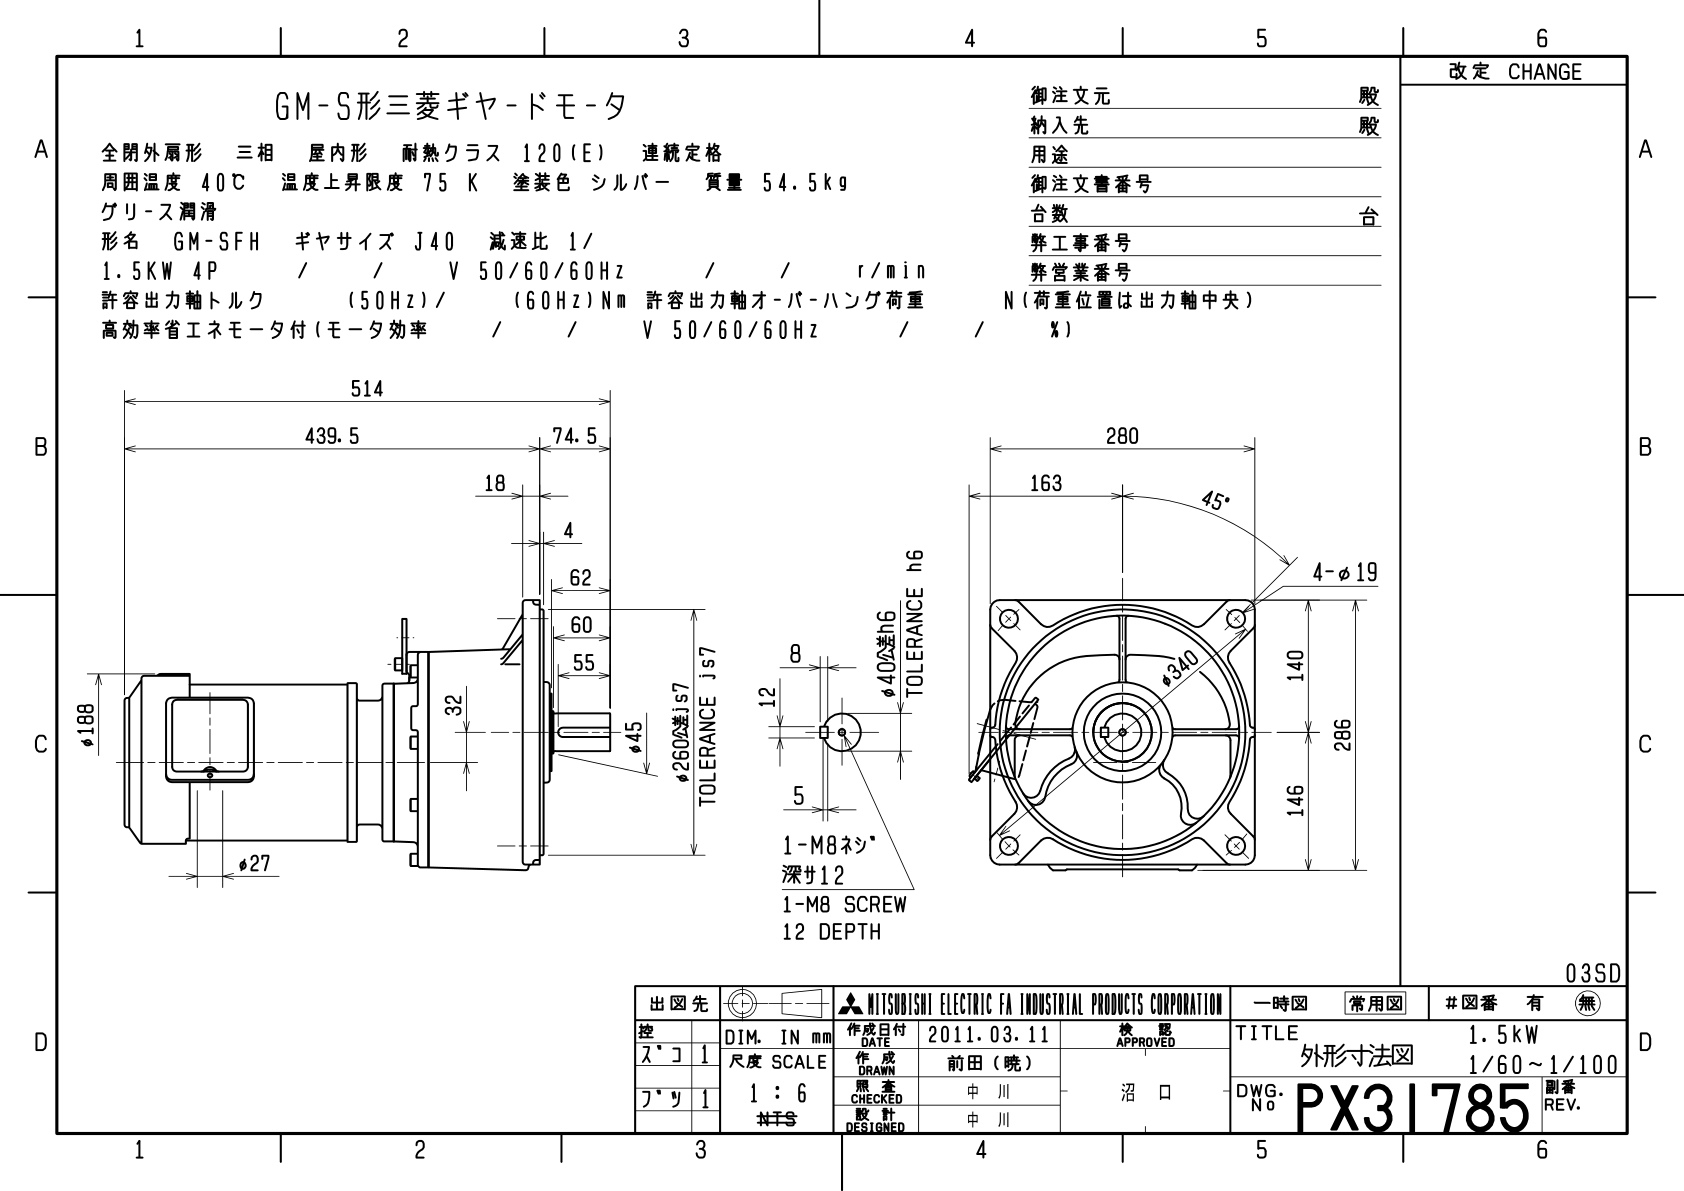GM_S_高効率屋内＿三相_フランジ: (70, 369, 1386, 963)
